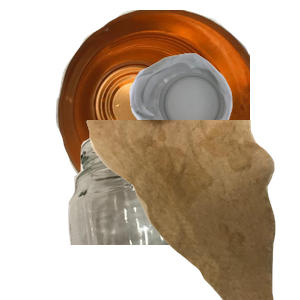glass: (61, 120, 287, 300)
metal: (53, 10, 293, 190)
plastic: (127, 51, 300, 197)
trash: (84, 120, 300, 300)
